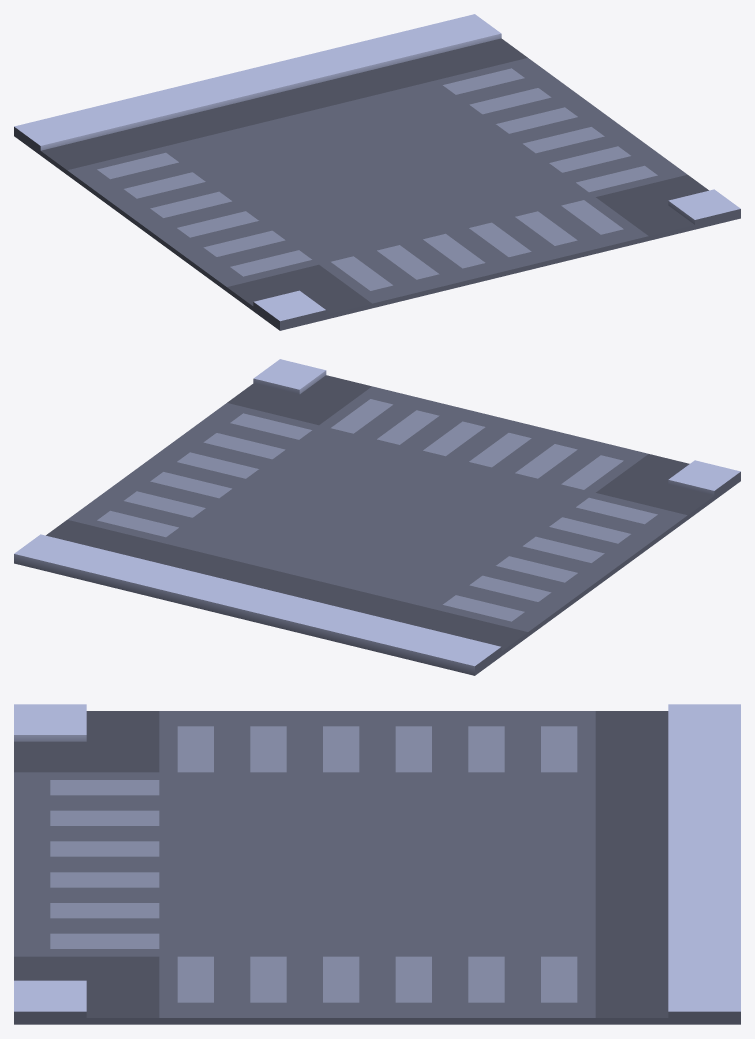
The model's file is road-intersection-path.glb.
The picture shows the model from 3 angles, top to bottom: view 1: azimuth 30°, elevation 25°; view 2: azimuth 150°, elevation 25°; view 3: azimuth 270°, elevation 25°; orthographic projection. The views are drawn at different scales.
Visible parts, largest first — view 1: road-intersection-path; view 2: road-intersection-path; view 3: road-intersection-path.
Boxes of the visible parts, left/top/right/bottom form: road-intersection-path: left=14, top=14, right=740, bottom=330; road-intersection-path: left=14, top=359, right=740, bottom=675; road-intersection-path: left=14, top=704, right=740, bottom=1024.
Bounding box in the file's own units: 1 × 0.02 × 1.
1 material, 1 textured.
